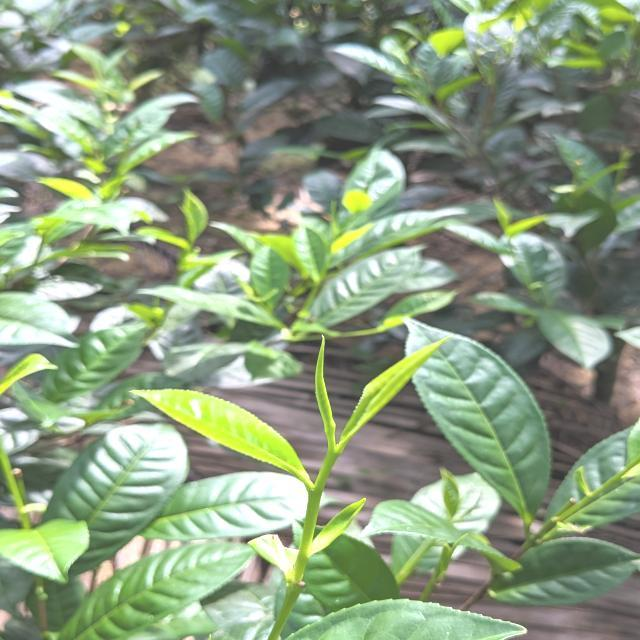Stem: (322, 453, 338, 469)
